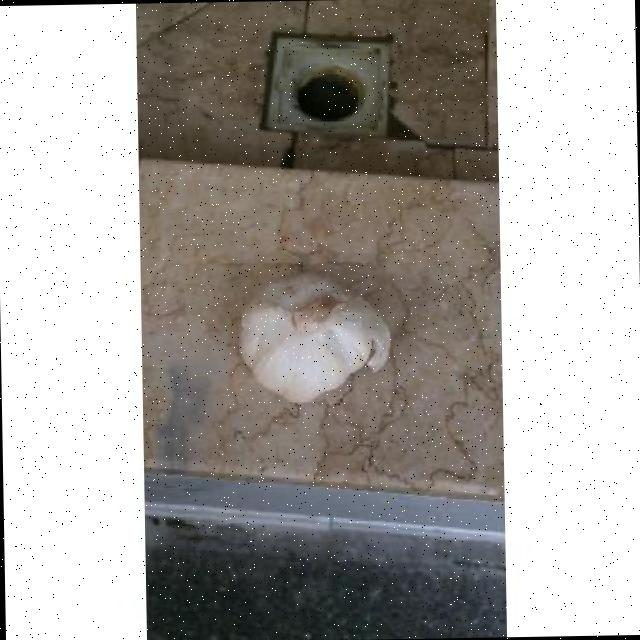garlic: (239, 274, 390, 402)
